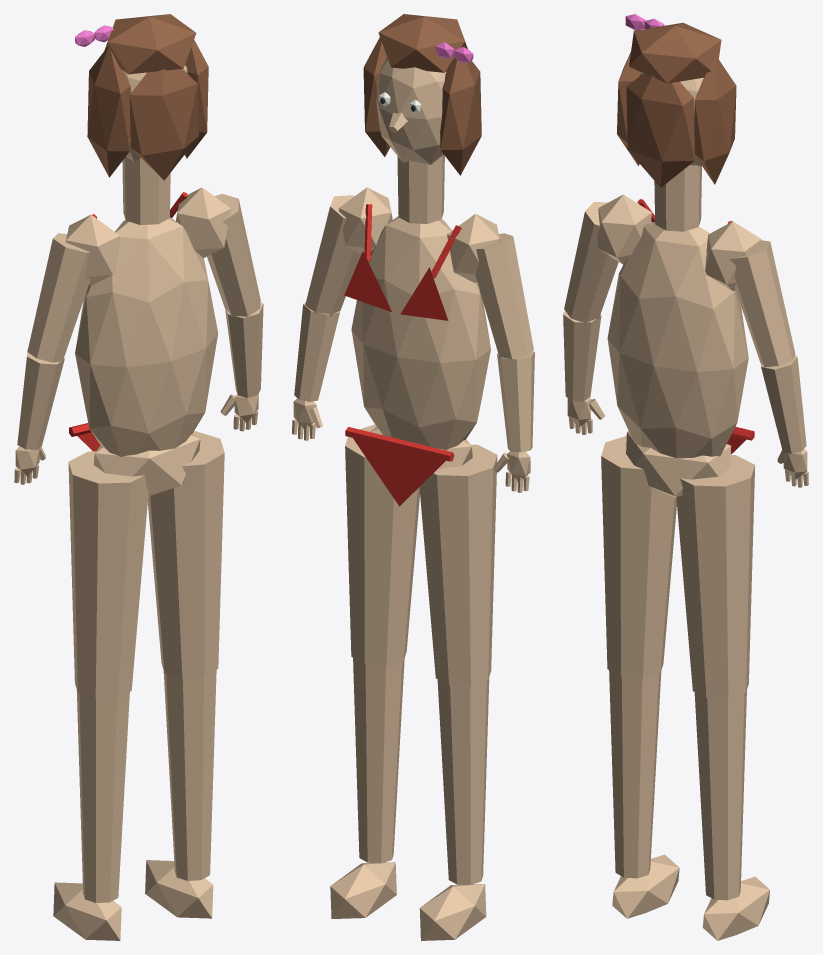
File: OutfitBikini.fbx
3 views of the same model, side by side, from view 1: azimuth 30°, elevation 25°; view 2: azimuth 150°, elevation 25°; view 3: azimuth 330°, elevation 25° (orthographic). The views are drawn at different scales.
Visible parts, largest first — view 1: Torso, ThighLeft, ThighRight, CalfLeft, CalfRight, HairBack, UpperArmSkinLeft, HairSide.001, HairTop, UpperArmSkinRight, Waist, ForearmSkinLeft (+8 smaller); view 2: Torso, ThighLeft, ThighRight, CalfLeft, CalfRight, Face, UpperArmSkinLeft, HairSide.001, HairTop, UpperArmSkinRight, ForearmSkinLeft, FootLeft (+12 smaller); view 3: Torso, ThighRight, ThighLeft, CalfRight, CalfLeft, HairBack, UpperArmSkinRight, HairTop, HairSide, UpperArmSkinLeft, Waist, ForearmSkinRight (+9 smaller).
Boxes of the visible parts, x1,y1,x2,y2 form: Torso: [75, 217, 218, 456]; ThighLeft: [68, 451, 148, 698]; ThighRight: [147, 431, 224, 678]; CalfLeft: [76, 689, 129, 902]; CalfRight: [163, 670, 216, 880]; HairBack: [129, 69, 198, 180]; UpperArmSkinLeft: [27, 233, 90, 362]; HairSide.001: [87, 47, 130, 177]; HairTop: [104, 14, 196, 74]; UpperArmSkinRight: [207, 194, 260, 317]; Waist: [93, 433, 200, 496]; ForearmSkinLeft: [17, 349, 64, 449]; Torso: [351, 216, 490, 450]; ThighLeft: [419, 444, 497, 685]; ThighRight: [345, 424, 419, 666]; CalfLeft: [437, 677, 489, 884]; CalfRight: [353, 658, 404, 863]; Face: [376, 57, 446, 164]; UpperArmSkinLeft: [475, 233, 533, 359]; HairSide.001: [440, 58, 481, 175]; HairTop: [378, 14, 467, 72]; UpperArmSkinRight: [305, 195, 361, 316]; ForearmSkinLeft: [497, 351, 534, 452]; FootLeft: [419, 884, 486, 940]; Torso: [607, 222, 748, 458]; ThighRight: [676, 455, 755, 698]; ThighLeft: [601, 436, 676, 678]; CalfRight: [694, 690, 746, 900]; CalfLeft: [609, 670, 661, 878]; HairBack: [626, 73, 694, 187]; UpperArmSkinRight: [729, 240, 795, 367]; HairTop: [629, 22, 721, 83]; HairSide: [694, 54, 736, 184]; UpperArmSkinLeft: [564, 201, 618, 323]; Waist: [626, 431, 731, 498]; ForearmSkinRight: [760, 355, 806, 453].
Size of the model in its own units: 0.4823 by 1.75 by 0.2267.
